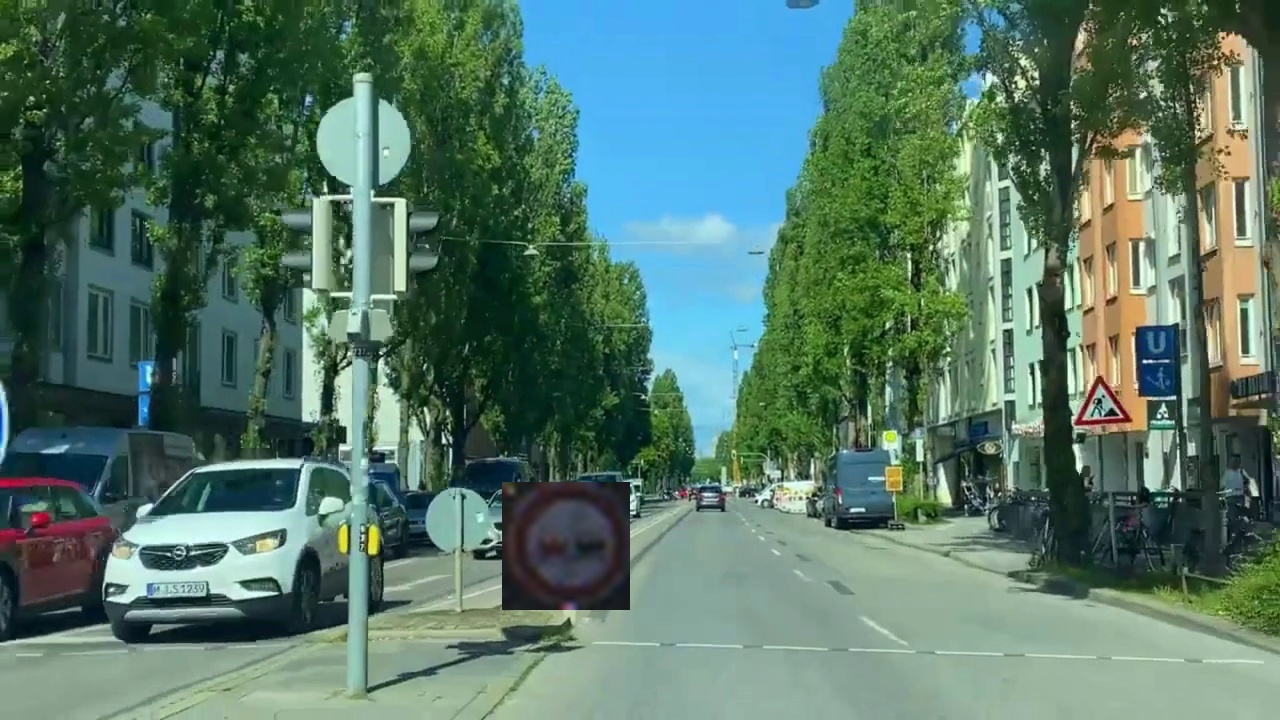No passing: (502, 482, 630, 610)
